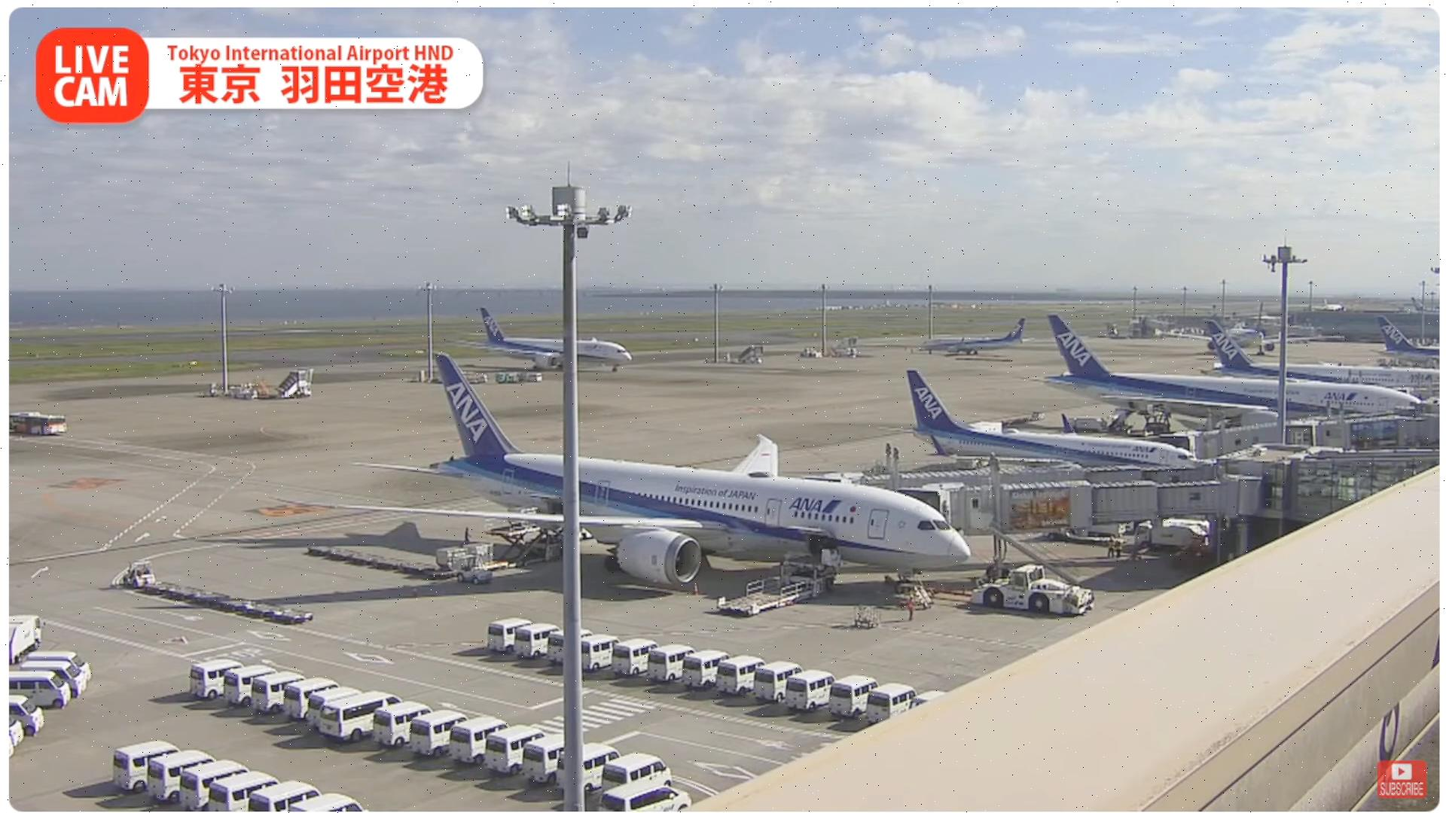APS: (969, 564, 1106, 619)
Aerobridge: (899, 476, 1264, 540), (843, 457, 1217, 496)
Airplane: (330, 354, 973, 599)
Dolly: (137, 578, 314, 625), (309, 544, 457, 579)
JCPL: (716, 556, 842, 620), (450, 522, 565, 575)
Tractor: (454, 553, 493, 585), (121, 559, 156, 585)
Window: (1290, 456, 1440, 523)
